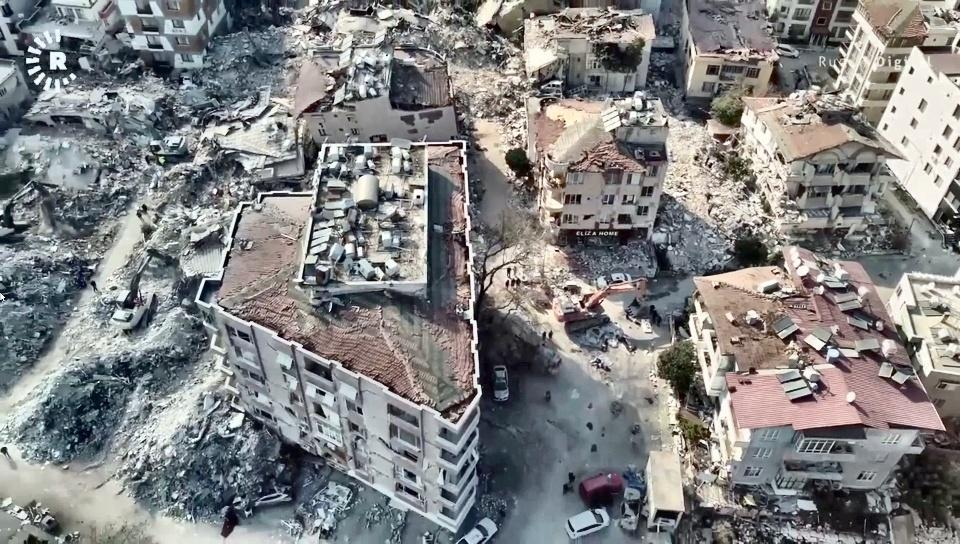kapali: (461, 0, 528, 157)
